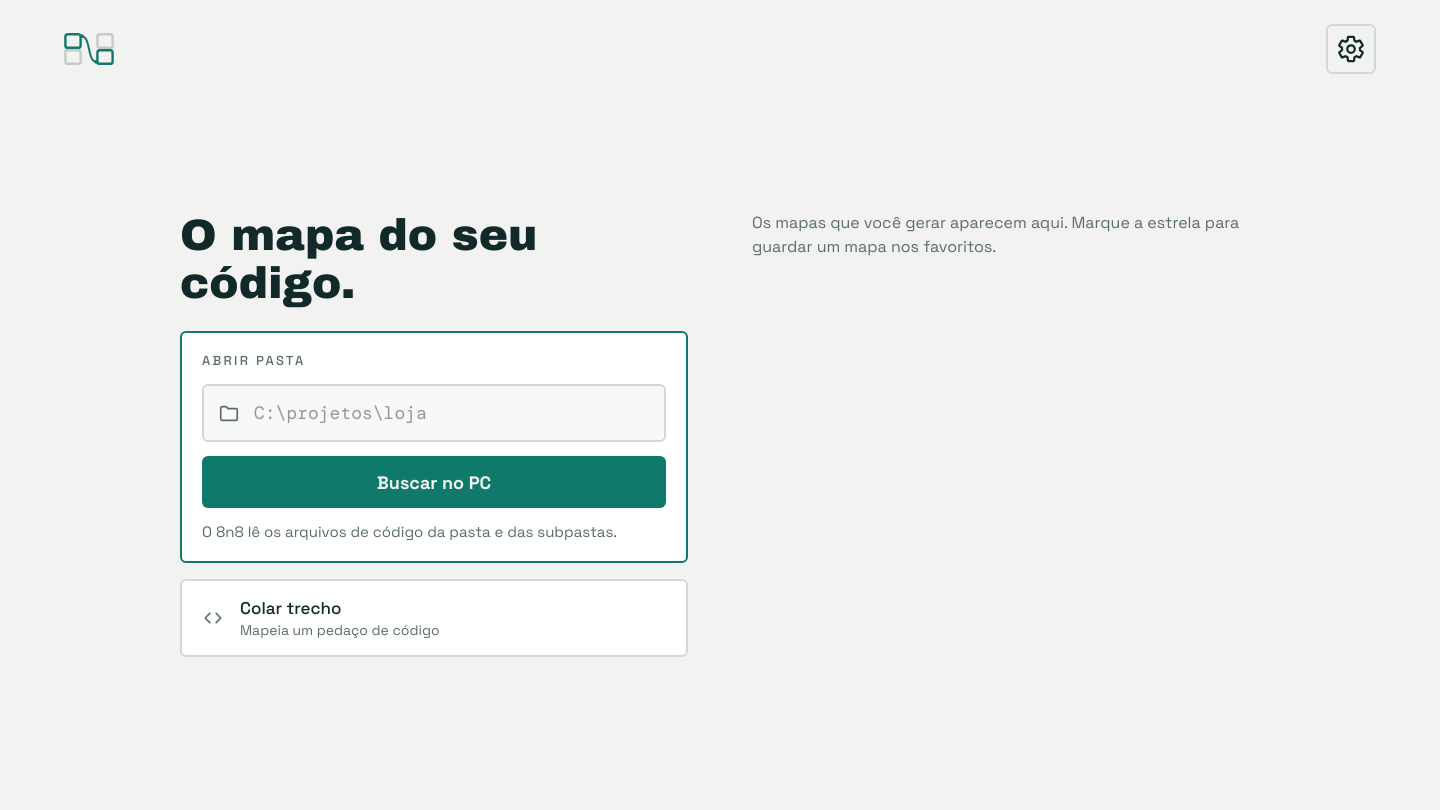
Test case: App with a local folder (PROJ-02, PROJ-05, PROJ-06) › says a dependency folder does not open, and where to change it
Type "C:\\app\\node_modules" into the field named "Caminho da pasta". click: (451, 413)
box: x1=252 y1=400 x2=650 y2=426
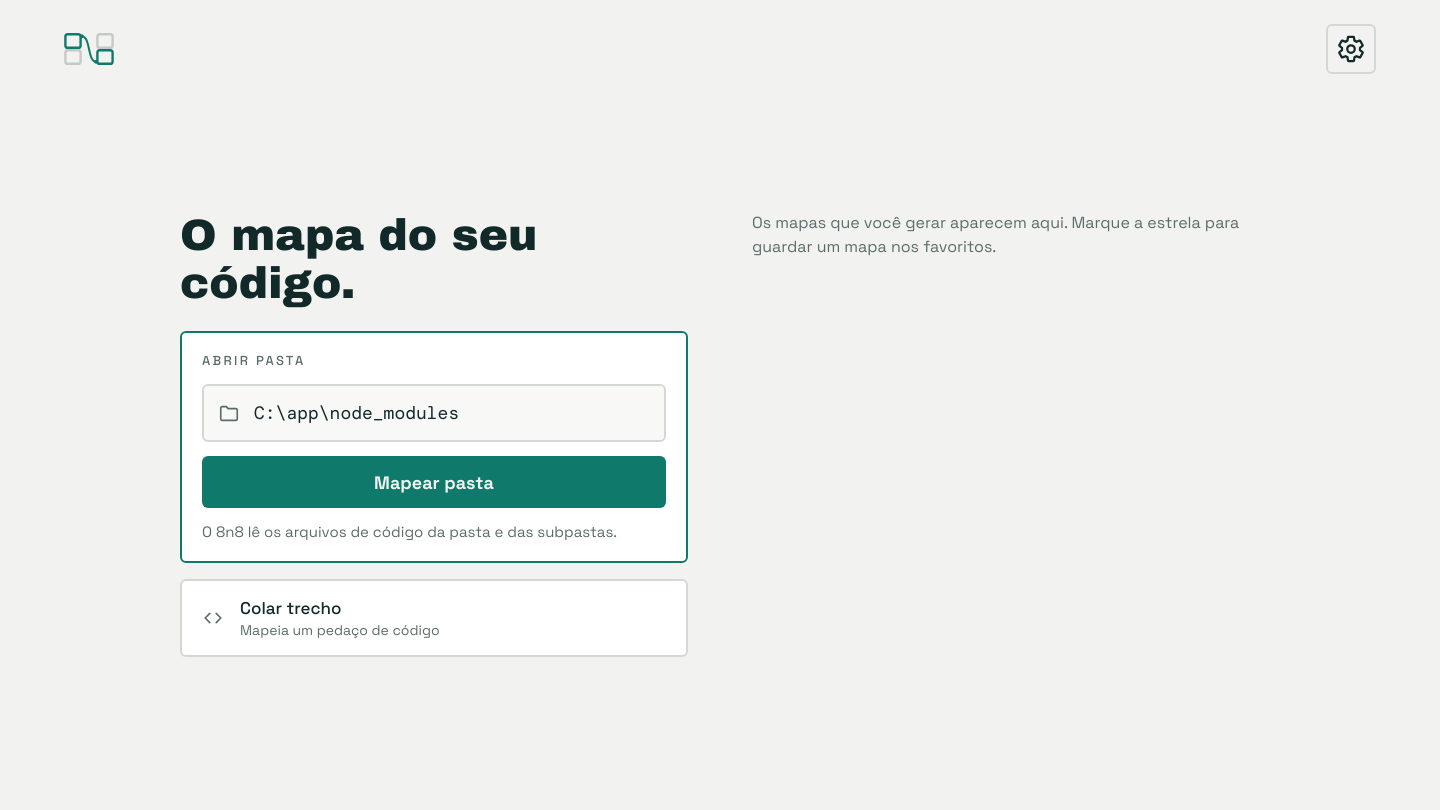
Click the button "Mapear pasta". click: (434, 482)
box: x1=202 y1=456 x2=666 y2=508
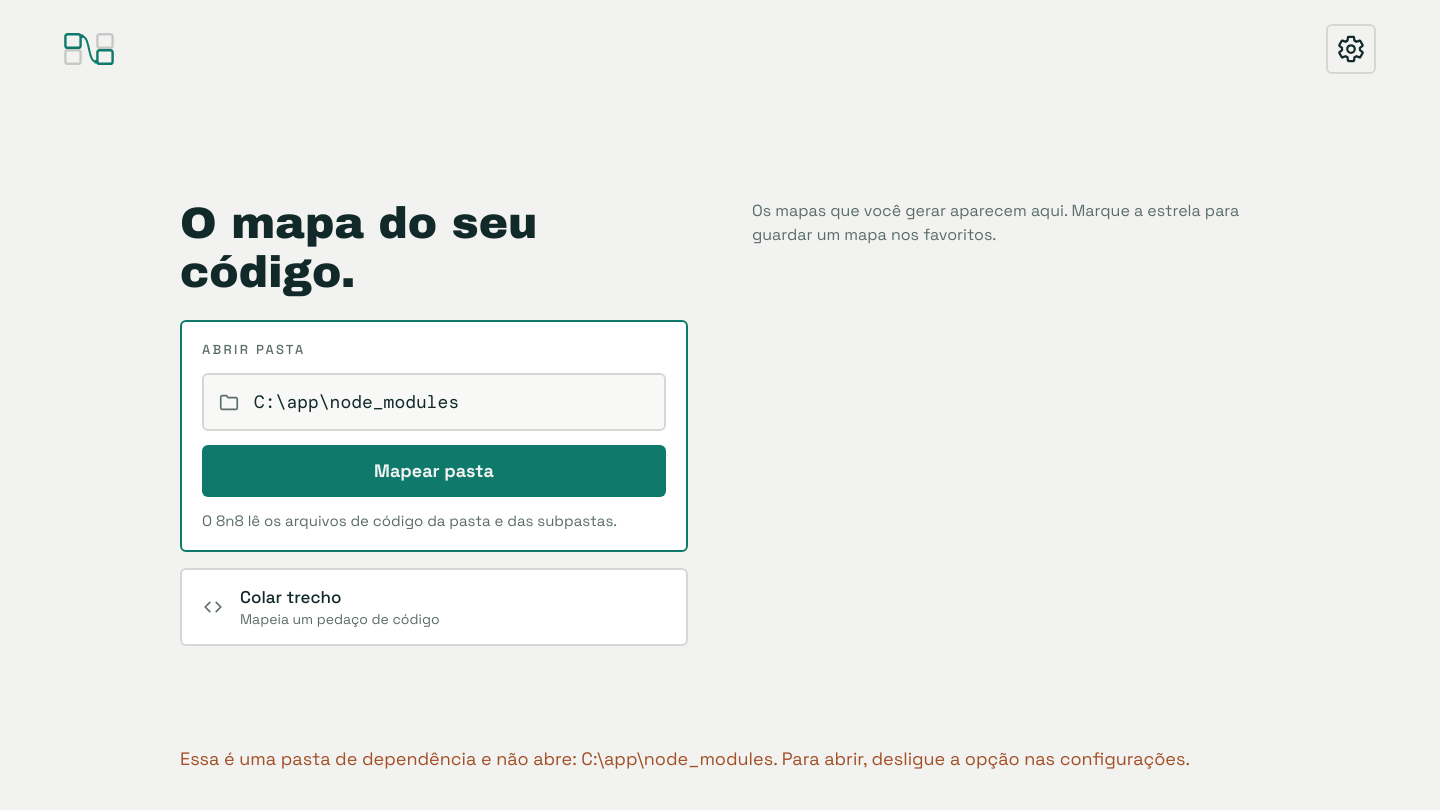
Result: the message shows "Essa é uma pasta de dependência e não abre: C:\\app\\node_modules. Para abrir, desligue a opção nas configurações." at x1=180 y1=747 x2=1190 y2=770
